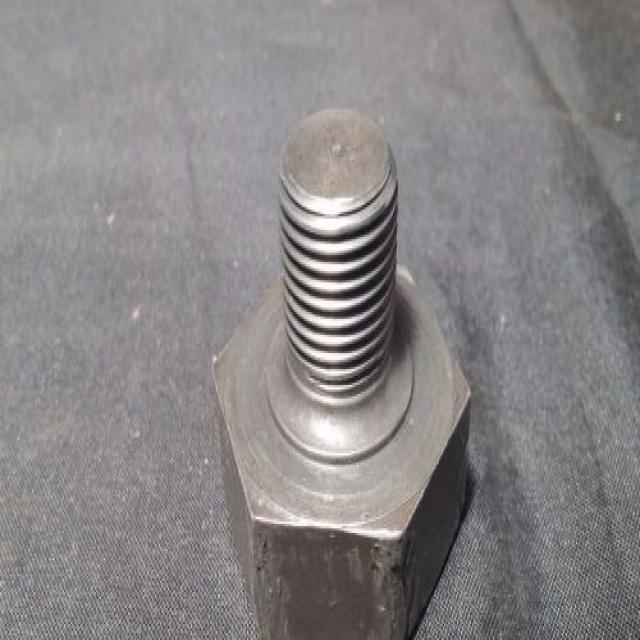bolt nut: (209, 242, 471, 633)
